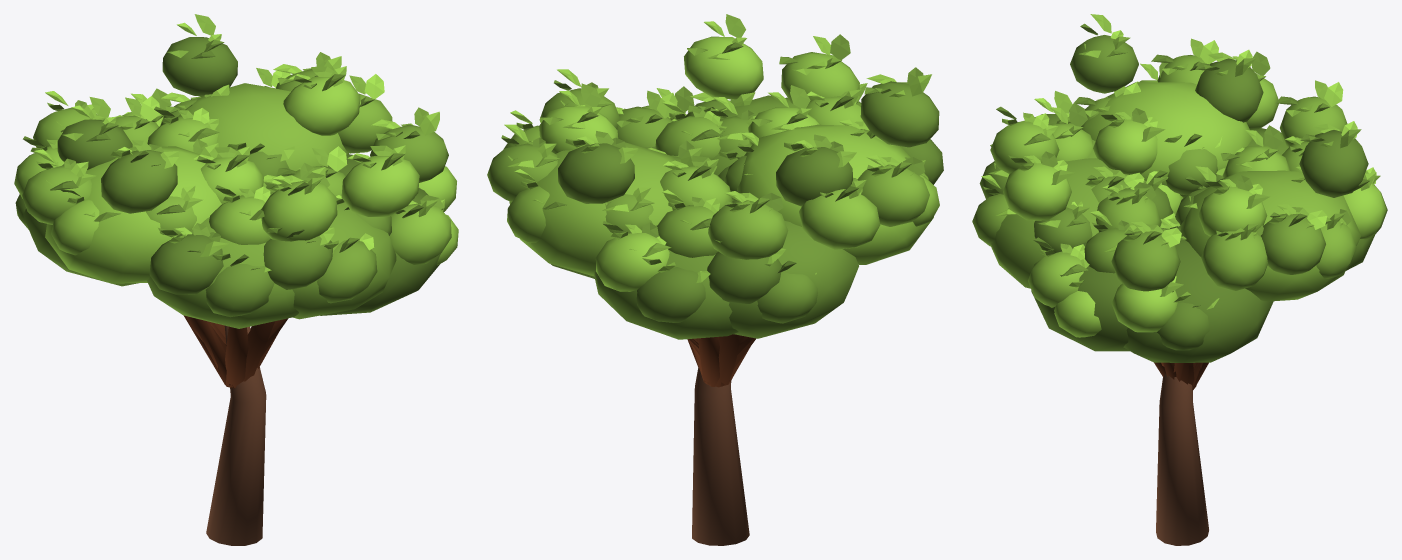
The model's file is green-tree.glb.
The picture shows the model from 3 angles, left to right: view 1: azimuth 30°, elevation 25°; view 2: azimuth 150°, elevation 25°; view 3: azimuth 270°, elevation 25°; orthographic projection. The views are drawn at different scales.
Parts seen in each view (by area): view 1: canopy, green-tree; view 2: canopy, green-tree; view 3: canopy, green-tree.
Part boxes in pixels (x1,y1,x2,y2): canopy: [14, 14, 458, 328]; green-tree: [183, 315, 288, 545]; canopy: [487, 14, 943, 339]; green-tree: [687, 334, 755, 545]; canopy: [972, 14, 1387, 362]; green-tree: [1154, 362, 1208, 545].
Bounding box in the file's own units: 5.1 × 5.55 × 4.7.
